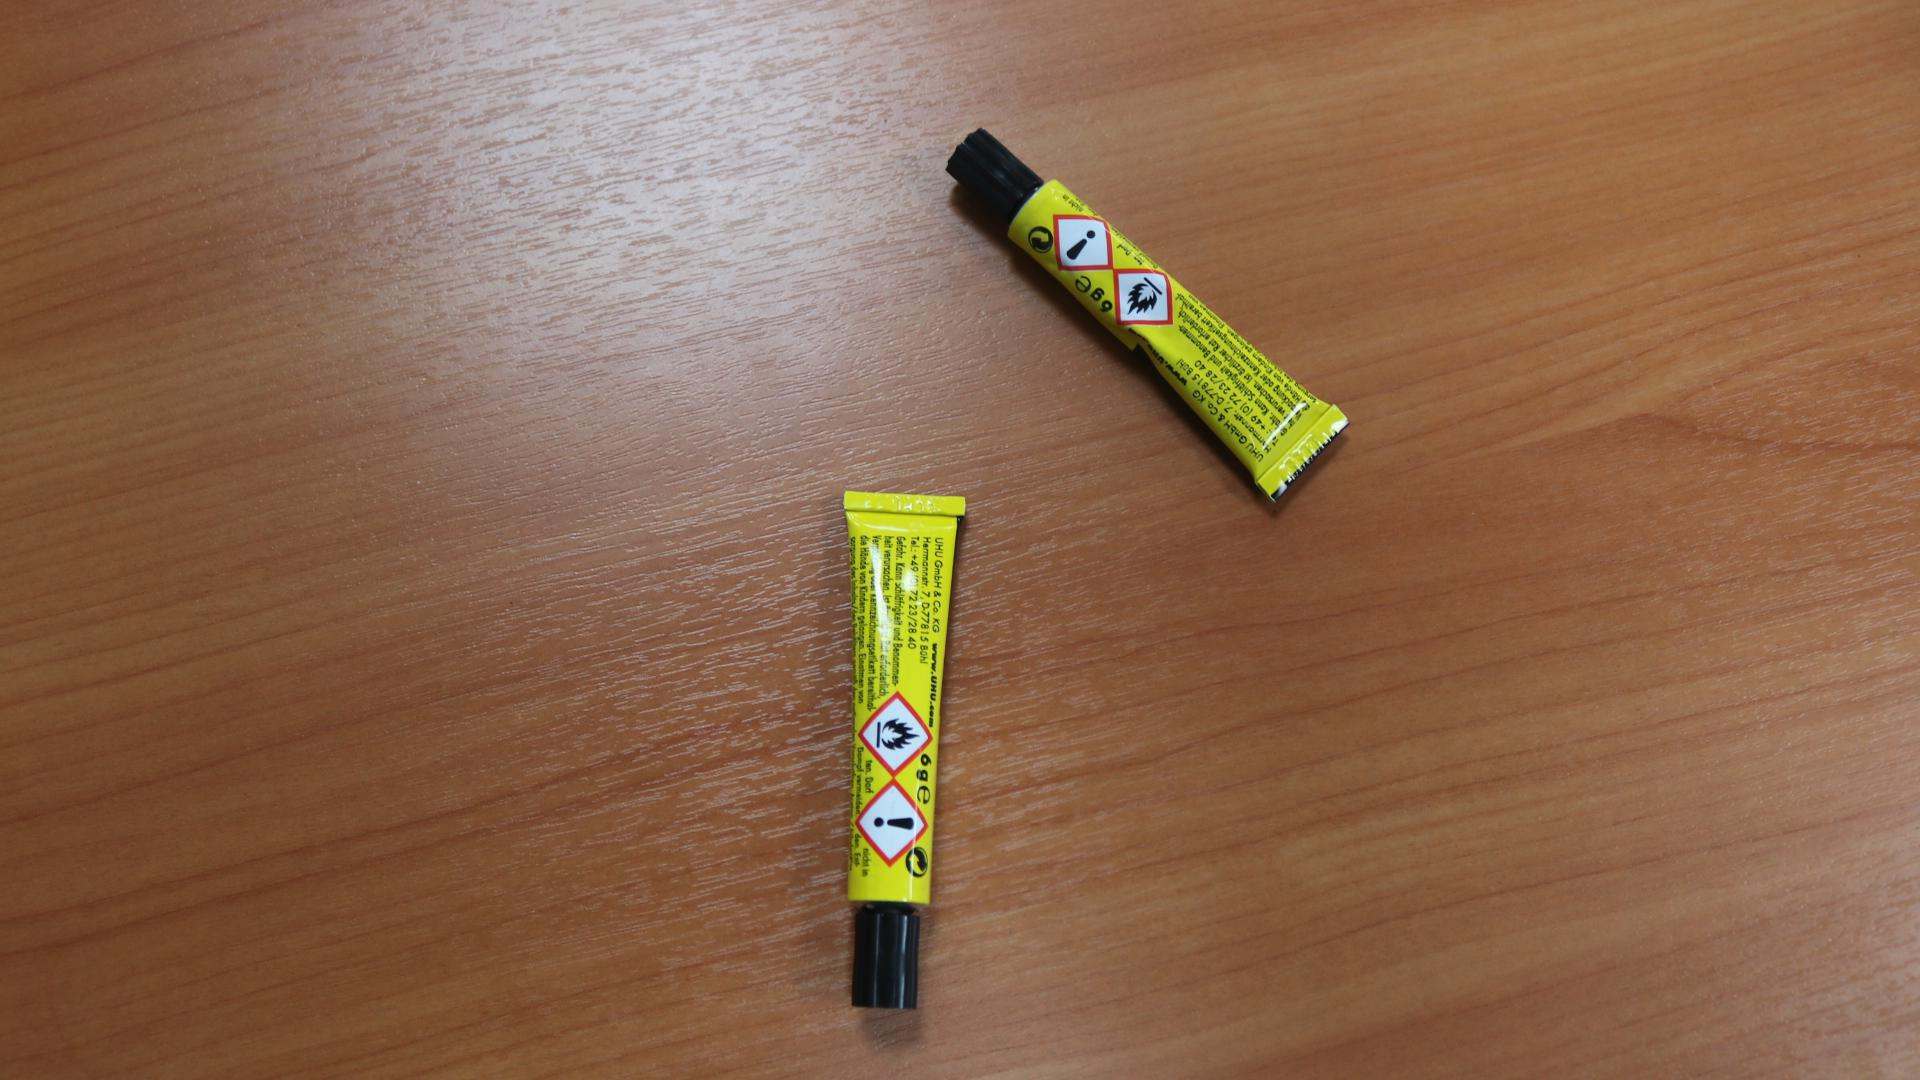Head: (986, 169, 1002, 183), (881, 948, 894, 964)
Tail: (895, 496, 919, 514), (1293, 447, 1311, 461)
Tube: (947, 128, 1350, 502), (840, 491, 966, 1010)
